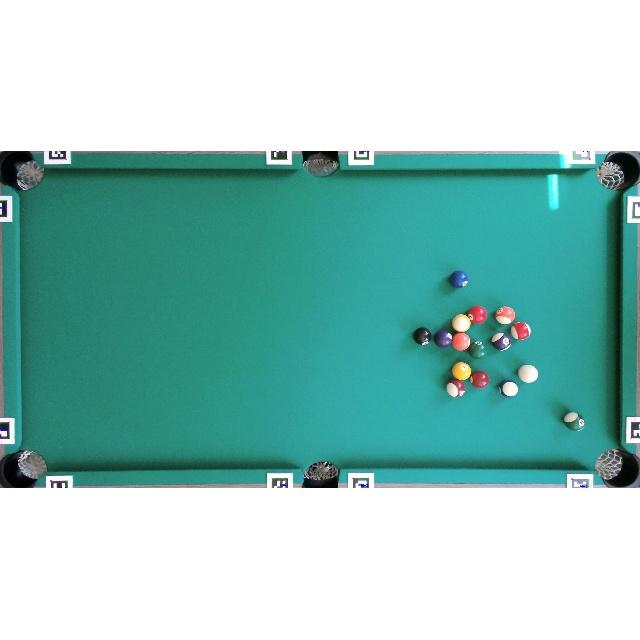cue ball: (518, 365, 538, 383)
other: (563, 412, 586, 432), (510, 322, 531, 341), (470, 370, 490, 389), (498, 379, 518, 398), (452, 362, 472, 381), (467, 306, 488, 324), (434, 329, 454, 347), (491, 332, 511, 350), (446, 380, 466, 398), (496, 306, 516, 324), (452, 314, 472, 332), (449, 270, 468, 288), (452, 332, 470, 351), (414, 327, 432, 345), (470, 341, 486, 358)
